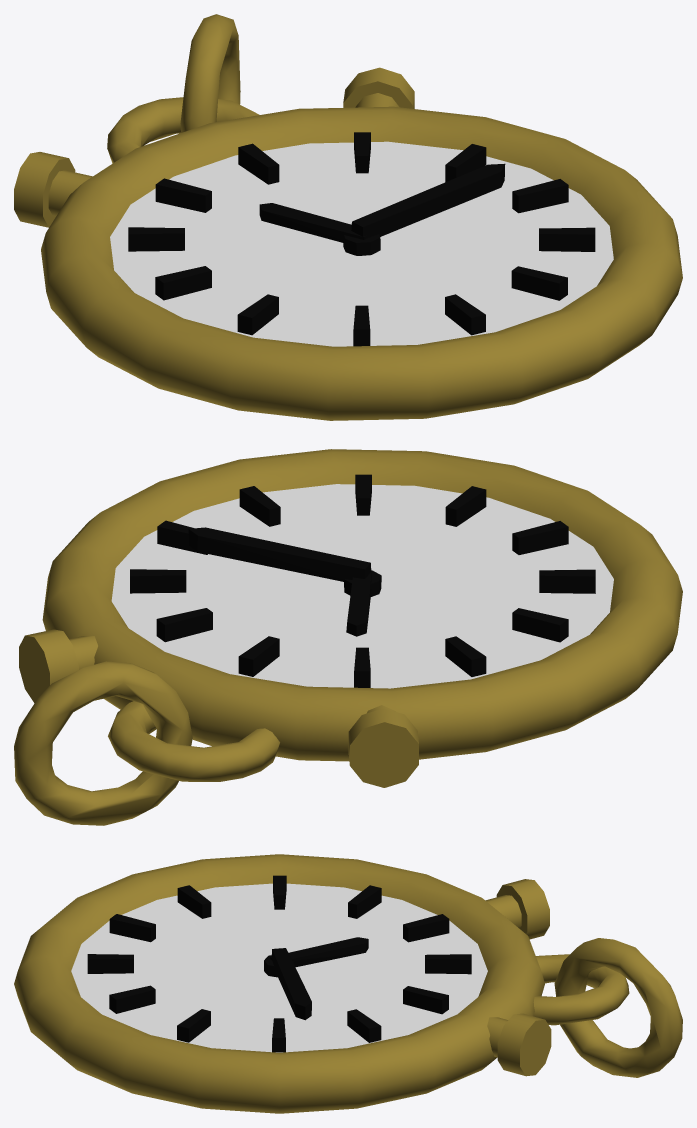
File: StopWatch.fbx
3 views of the same model, one above another, from view 1: azimuth 30°, elevation 25°; view 2: azimuth 150°, elevation 25°; view 3: azimuth 270°, elevation 25° (orthographic). The views are drawn at different scales.
Visible parts, largest first — view 1: Cylinder, Cylinder.008, Cylinder.005, Cylinder.004, Cylinder.006, Cylinder.003; view 2: Cylinder, Cylinder.005, Cylinder.008, Cylinder.004, Cylinder.006; view 3: Cylinder, Cylinder.004, Cylinder.005, Cylinder.008, Cylinder.006.
Part boxes in pixels (x1,y1,x2,y2): Cylinder: (41, 14, 682, 420); Cylinder.008: (351, 163, 505, 238); Cylinder.005: (14, 152, 92, 227); Cylinder.004: (343, 67, 414, 108); Cylinder.006: (259, 203, 366, 242); Cylinder.003: (343, 234, 380, 255); Cylinder: (14, 449, 682, 825); Cylinder.005: (348, 705, 418, 787); Cylinder.008: (188, 527, 371, 581); Cylinder.004: (19, 629, 97, 702); Cylinder.006: (346, 571, 371, 636); Cylinder: (14, 854, 682, 1113); Cylinder.004: (487, 1013, 551, 1076); Cylinder.005: (485, 879, 549, 939); Cylinder.008: (271, 948, 311, 1020); Cylinder.006: (270, 937, 368, 967).
Size of the model in its own units: 208 by 57.1 by 262.
